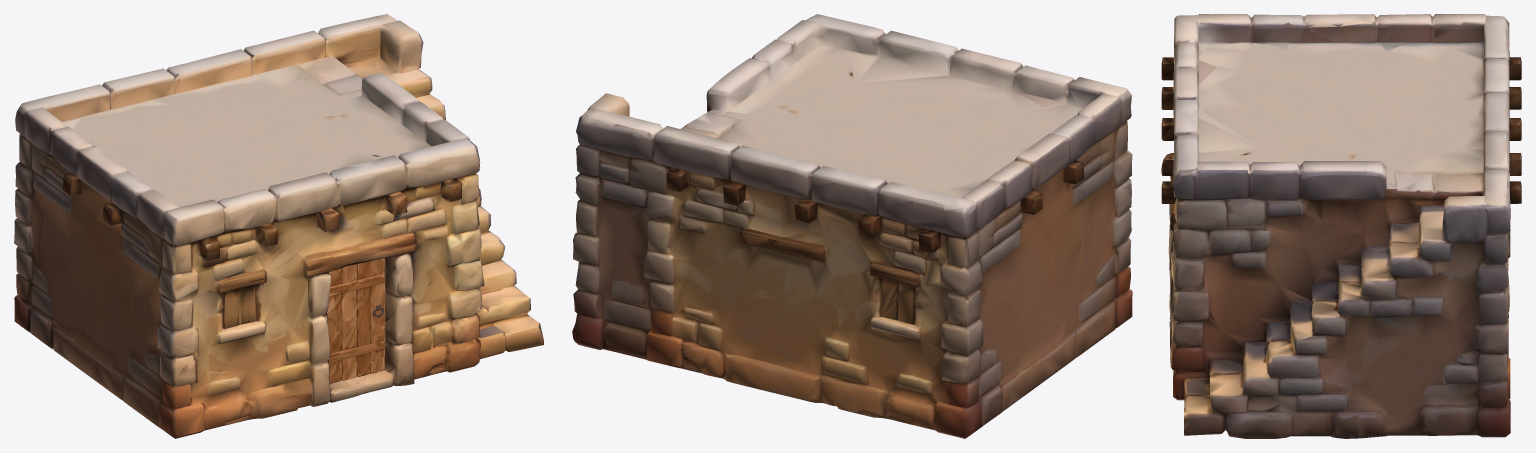
File: casa_porta.glb
The picture shows the model from 3 angles, left to right: view 1: azimuth 30°, elevation 25°; view 2: azimuth 150°, elevation 25°; view 3: azimuth 270°, elevation 25°; orthographic projection. The views are drawn at different scales.
Visible parts, largest first — view 1: Casa2, Casa2_Porta; view 2: Casa2; view 3: Casa2.
Boxes of the visible parts, bbox=[...] form: Casa2: bbox=[14, 14, 543, 438]; Casa2_Porta: bbox=[325, 258, 385, 383]; Casa2: bbox=[572, 14, 1132, 438]; Casa2: bbox=[1161, 14, 1521, 438].
Size of the model in its own units: 7.24 by 3.96 by 5.56.
2 materials, 2 textured.
